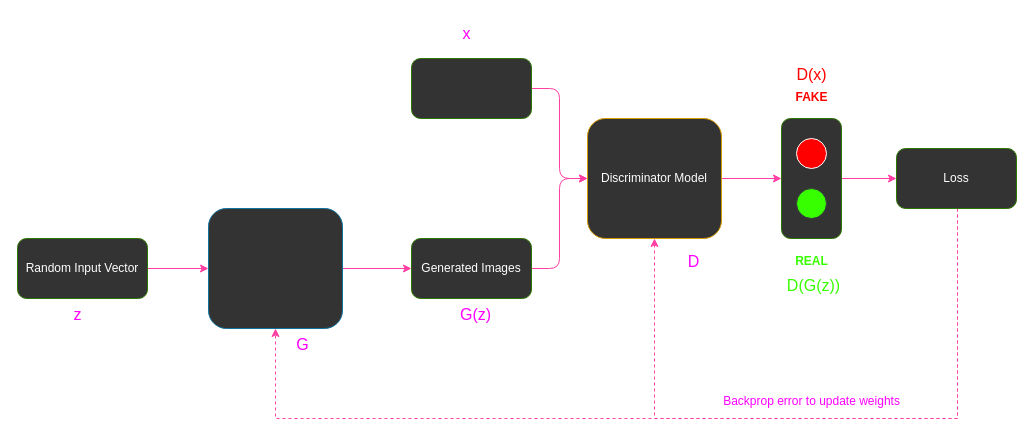
Some shapes in this 1034 by 444 pixel diagram are drawn without their labels. The shapes that lost their labels are listed below. From the top down, each one's centre as x and y in pixels, then its label:
At point (471, 88): "Real Images".
At point (275, 268): "Generator Model".
